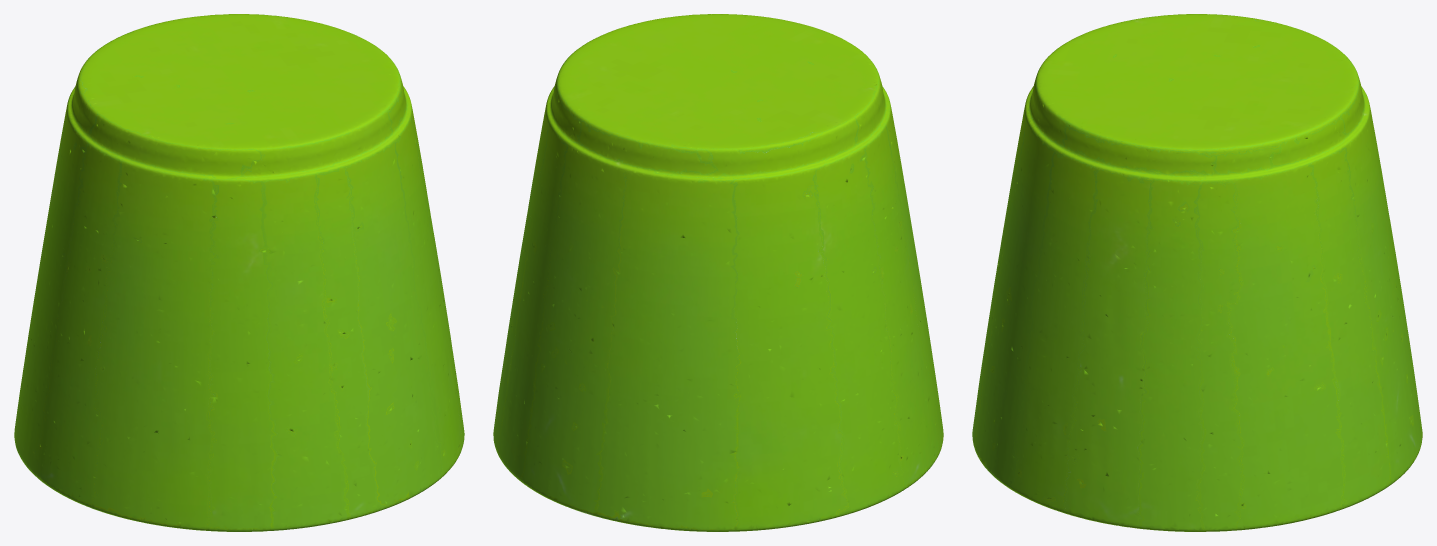
3 renders of one model, left to right at view 1: azimuth 30°, elevation 25°; view 2: azimuth 150°, elevation 25°; view 3: azimuth 270°, elevation 25°, orthographic.
Size of the model in its own units: 1.51 by 1.33 by 1.51.
1 material, 1 textured.
